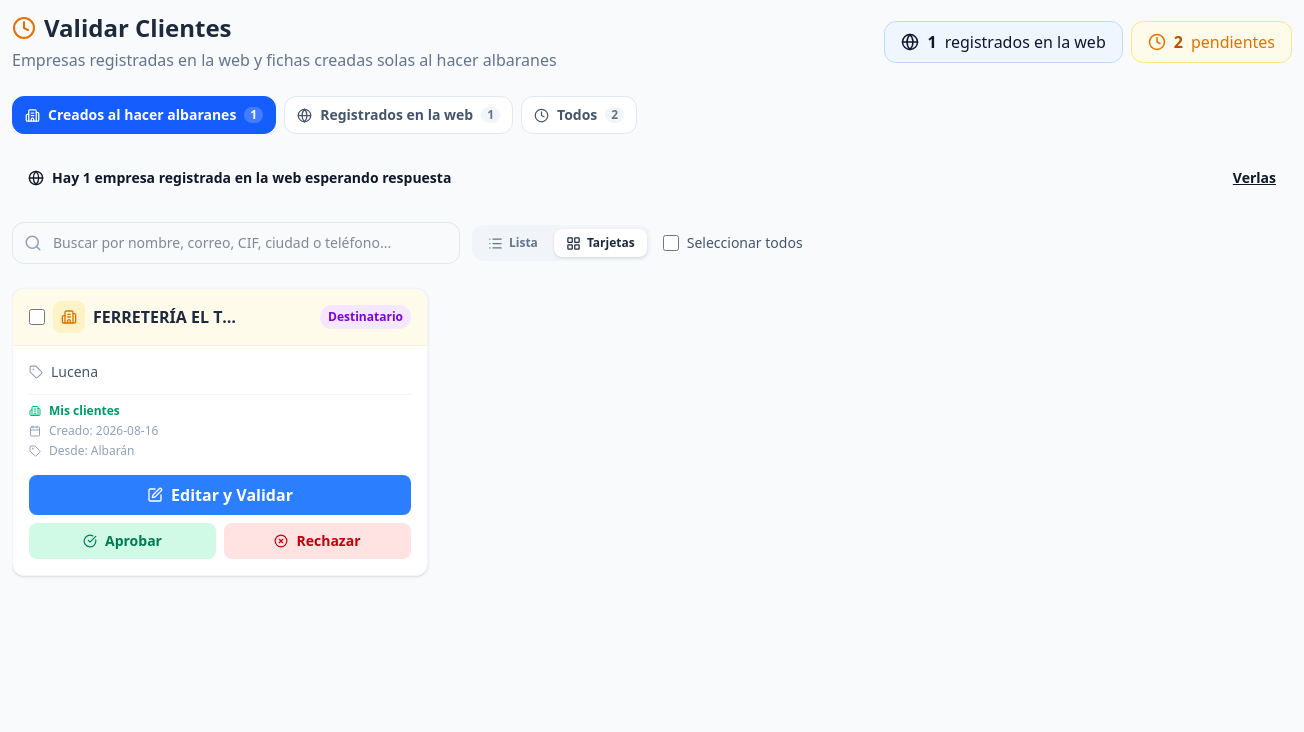
Test: Validar Clientes — quién se ha registrado por la web › en «Registrados en la web» salen los de la web y no las fichas de albarán
Click the button "Registrados en la web 1": (399,115) [284,96,513,134]
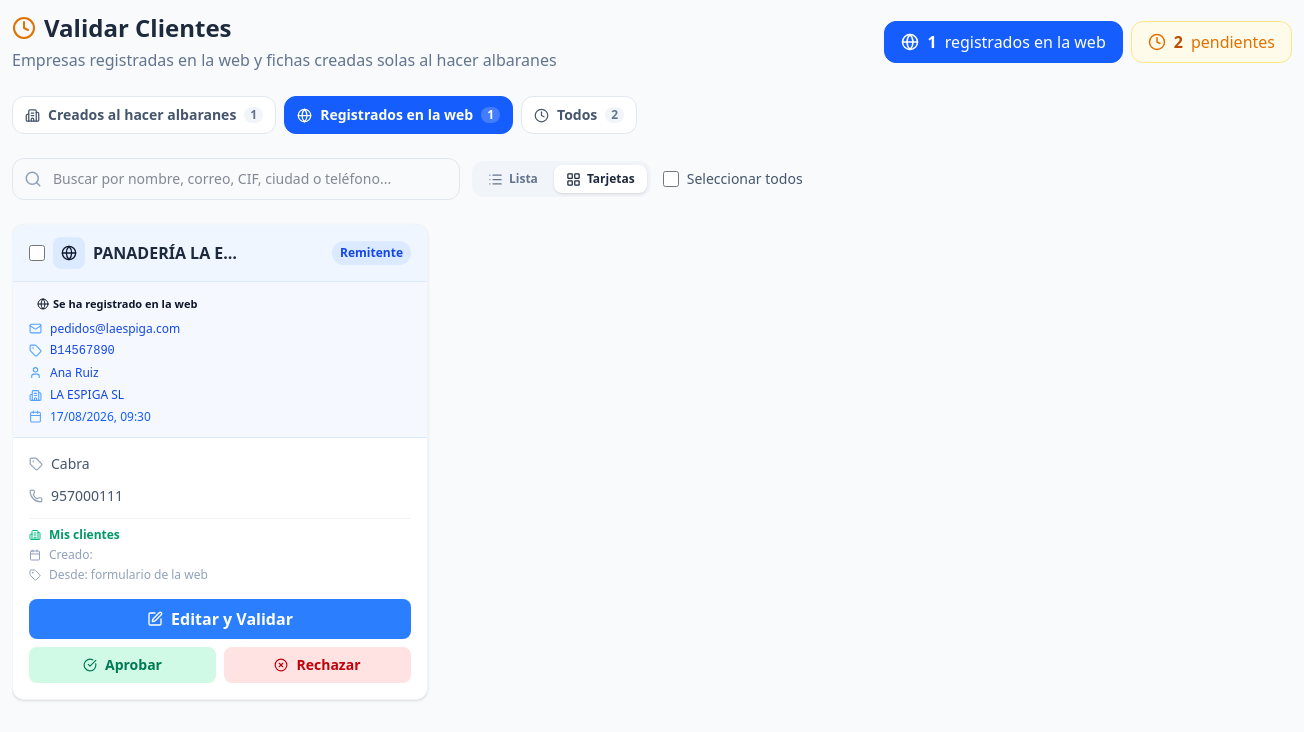
Check: the text "PANADERÍA LA ESPIGA" is shown, box [93,241,243,265]
Check: the text "FERRETERÍA EL TORNILLO" is gone
